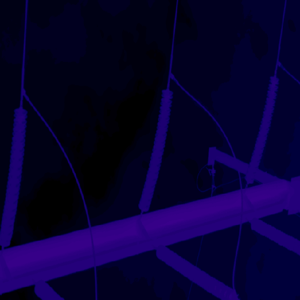insulator: (155, 241, 238, 300), (137, 88, 169, 212), (245, 73, 278, 185), (0, 106, 25, 249), (247, 213, 300, 254), (33, 279, 62, 300)
